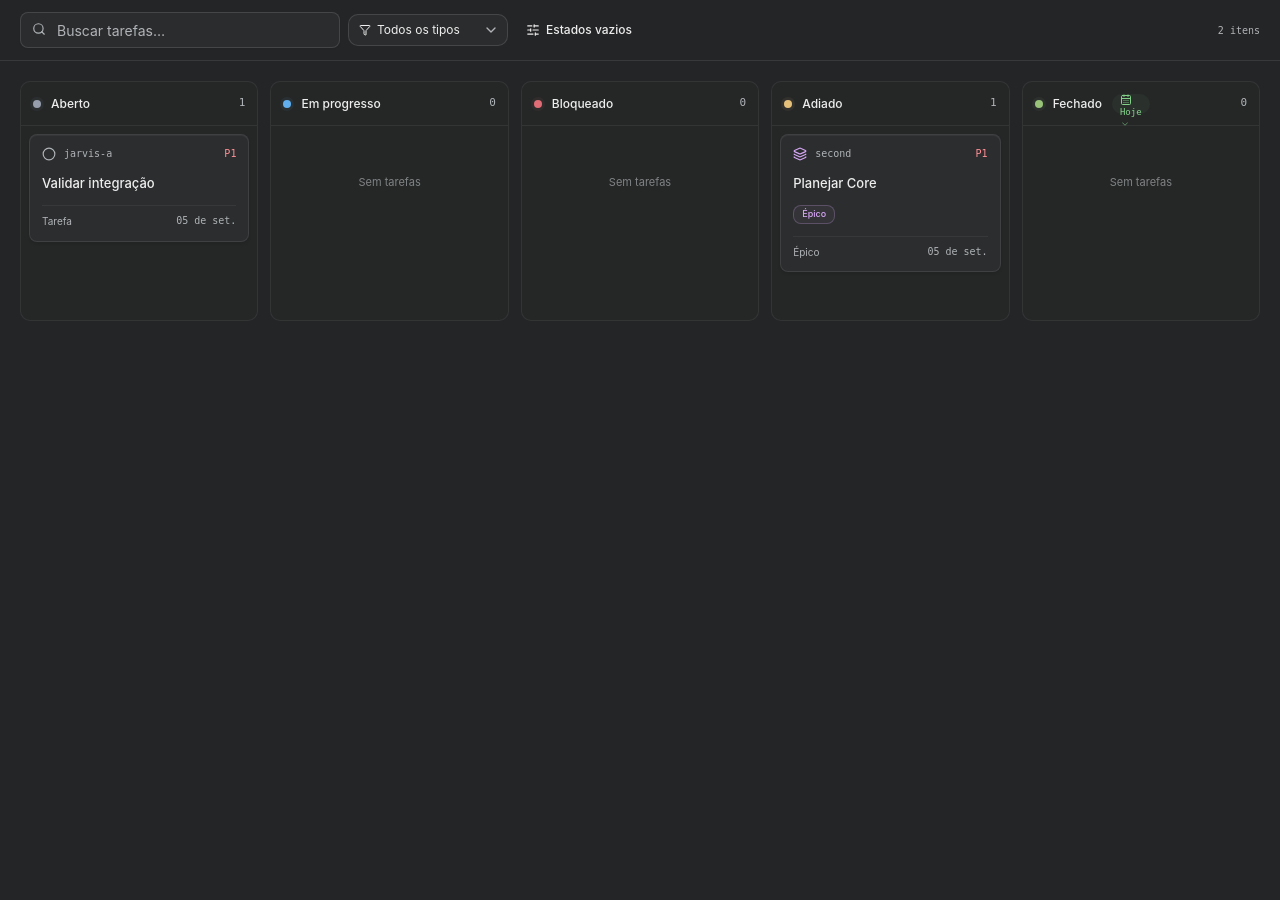
it: Project Dashboard › shows all statuses on demand, filters cards and opens readonly details
Expected: the element named "Adiado: 1" is shown, [771,81,1010,321]
Click the button "Estados vazios": (579, 30) [516,12,642,48]
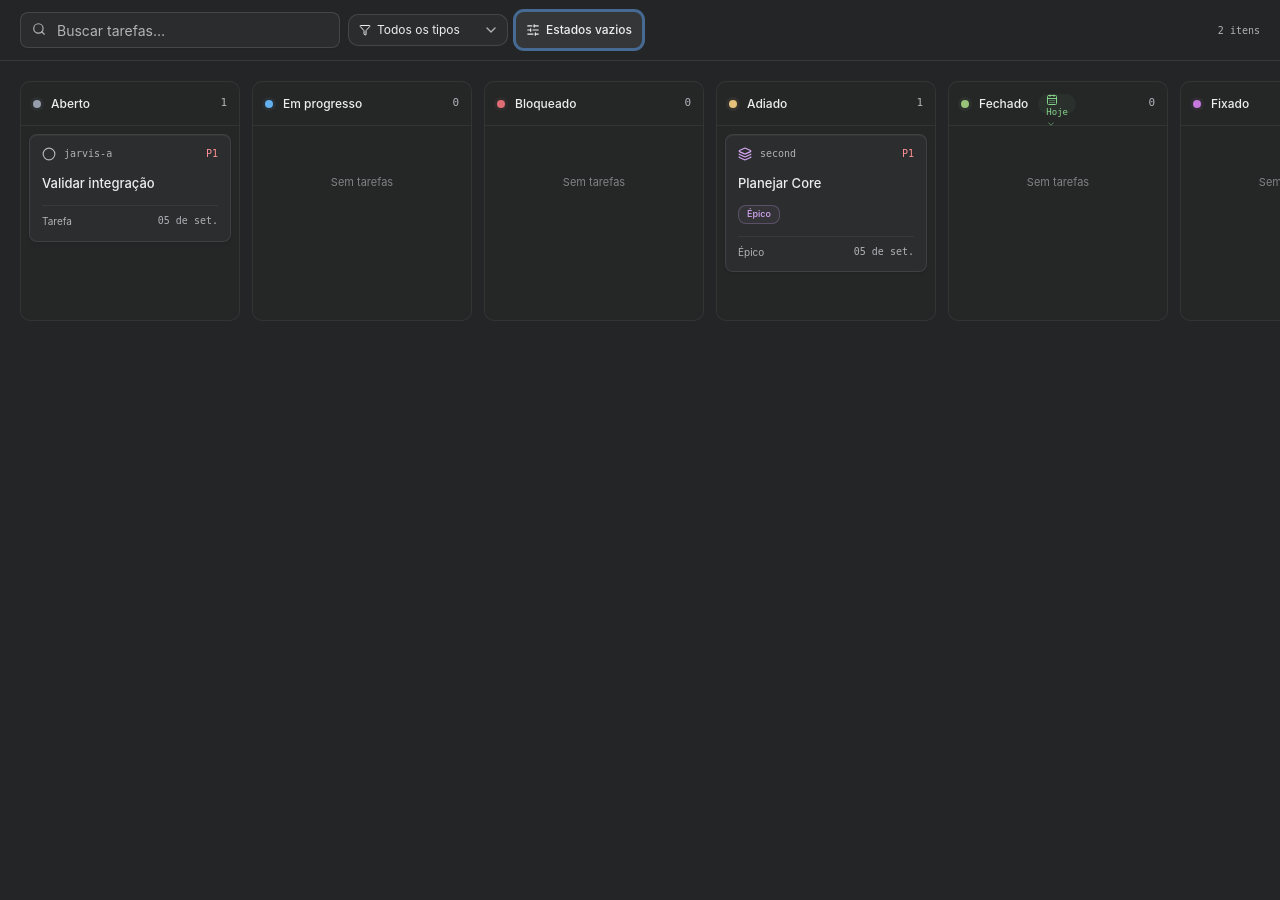
In the field labelled "Buscar tarefas": (180, 30) [20,12,340,48], type "Vali"
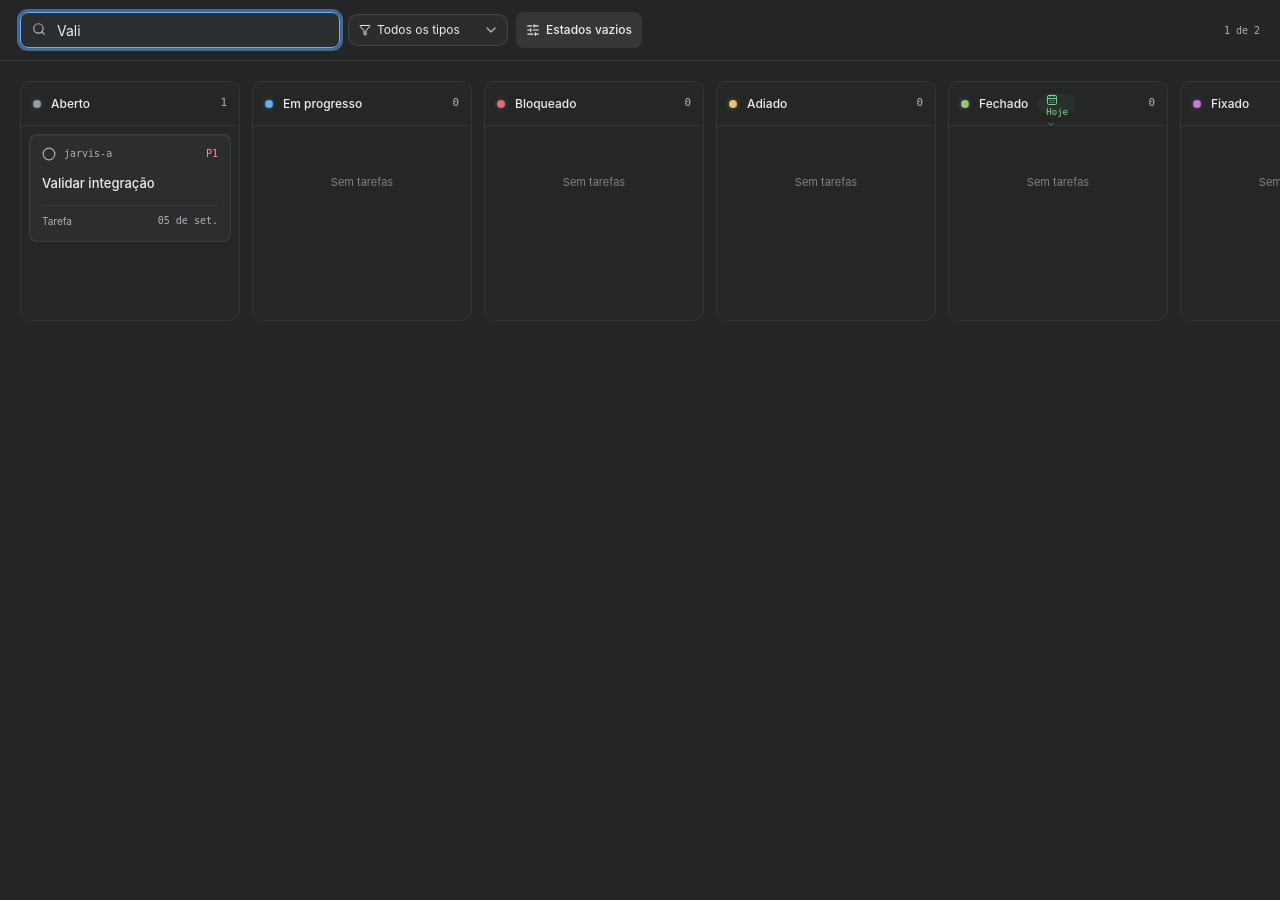
Click the button with aria-label "Tarefa: Validar integração": (130, 188) [29,134,231,242]
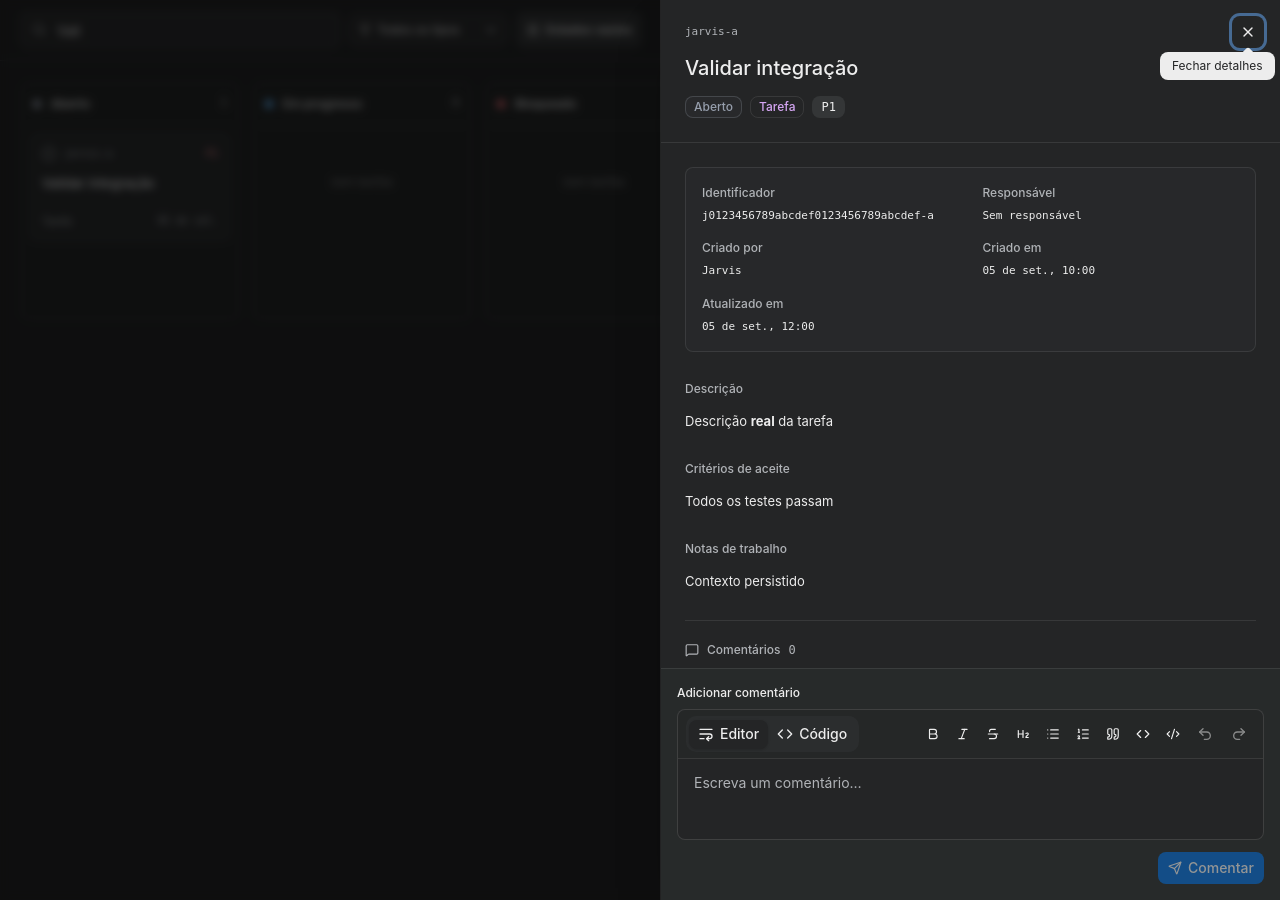
Expected: the text "Contexto persistido" is shown, [685,573,805,589]
